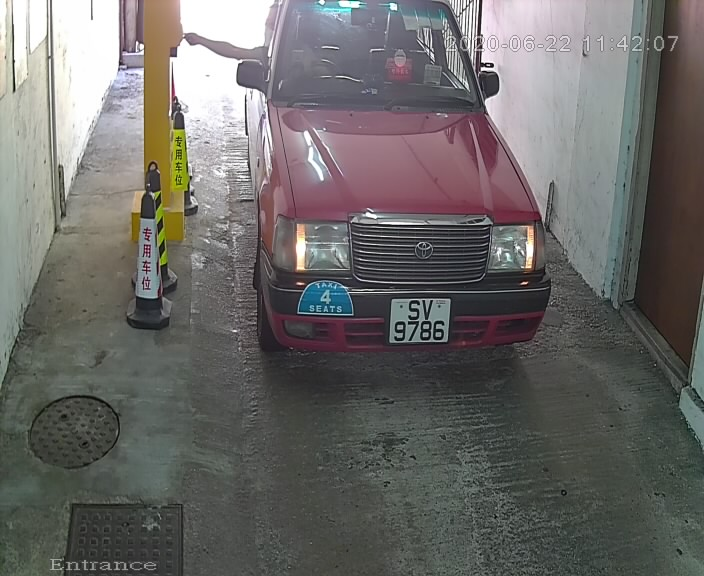taxi: (213, 2, 567, 389)
taxi_mark: (286, 269, 367, 329)
